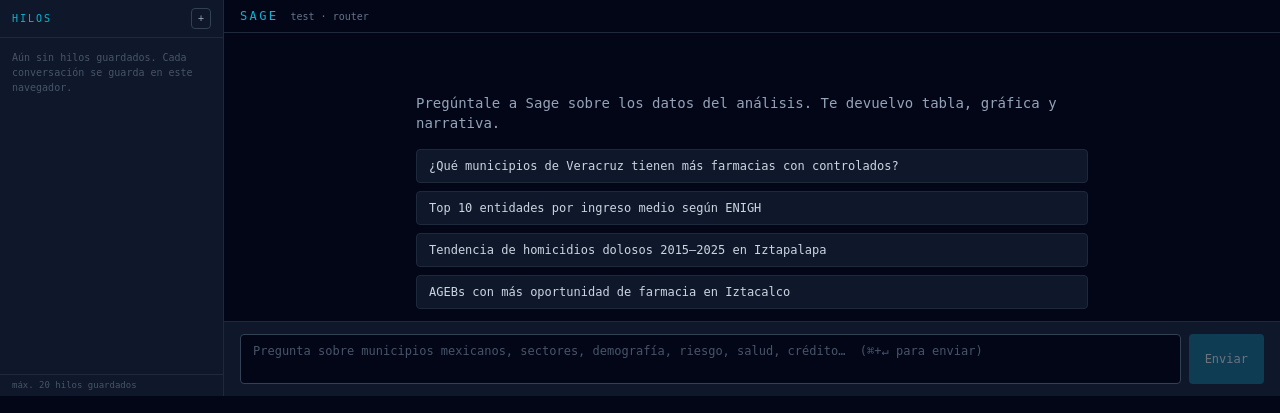
SageMode error codes (#185) › classifies on ApiError.status, not digits in the message
This screenshot has width=1280, height=413.
Click the 2nd button. click: (752, 166)
box: [416,149,1088,183]
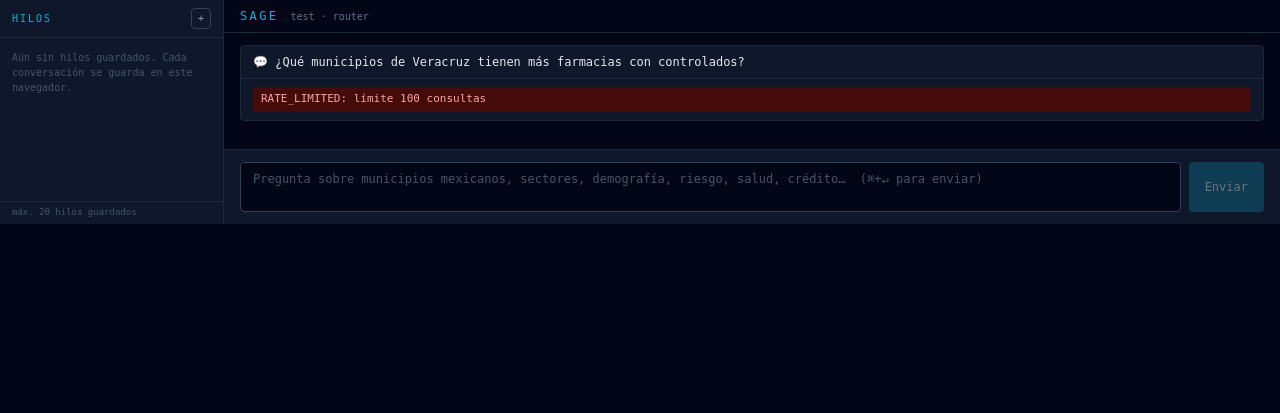
Result: the text "RATE_LIMITED: límite 100 consultas" is shown at [253,87,1251,112]
